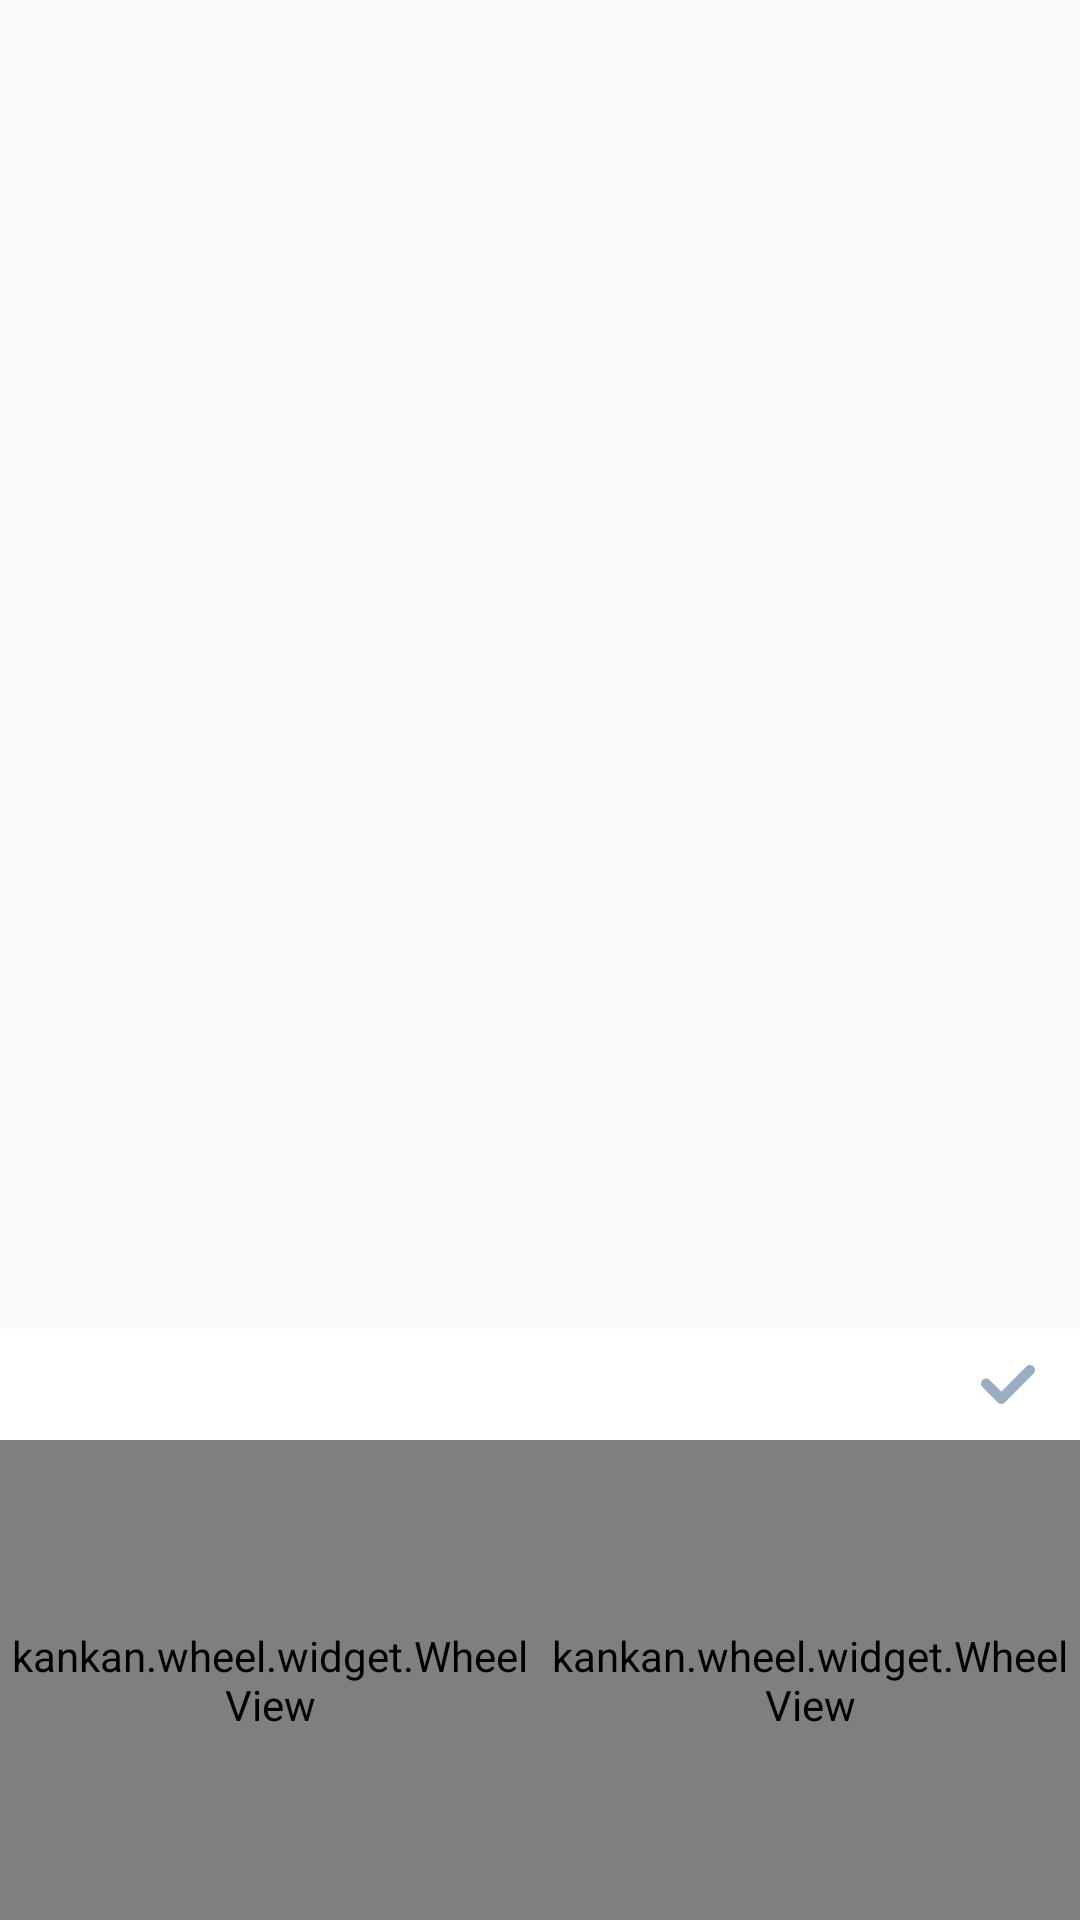

Screen size 1080×1920. Icon name, then its center in pixels as point (x, y):
wheel sel: point (1008, 1384)
